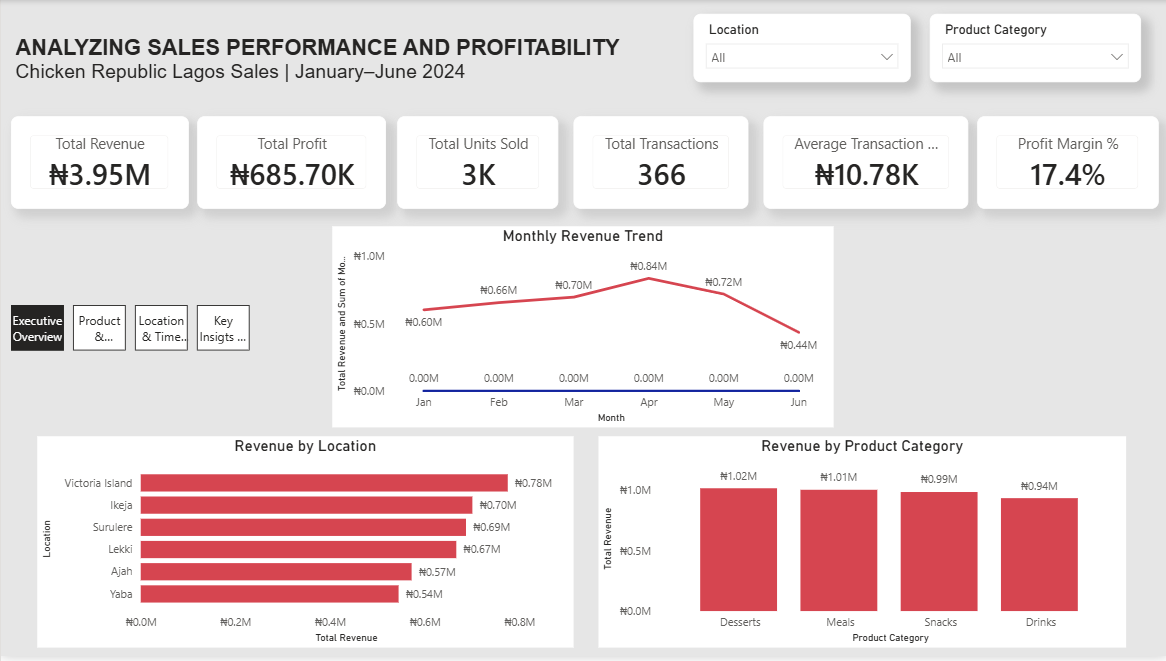

This screenshot's page, from the dashboard's own definition file:
{"tool":"powerbi","page":{"name":"Executive Overview","canvas":[1280,720],"ordinal":0},"visuals":[{"type":"cardVisual","fields":{"Data":["SalesData.Total Revenue"]},"box":[11,127.6,194.9,101.5],"z":0},{"type":"cardVisual","fields":{"Data":["SalesData.Total Profit"]},"box":[215.4,127.6,207.2,101.5],"z":1000},{"type":"cardVisual","fields":{"Data":["SalesData.Total Units Sold"]},"box":[435,127.6,177,101.5],"z":2000},{"type":"cardVisual","fields":{"Data":["SalesData.Total Transactions"]},"box":[628.5,127.6,192.1,101.5],"z":3000},{"type":"cardVisual","fields":{"Data":["SalesData.Average Transaction Value"]},"box":[837.1,127.6,225,101.5],"z":4000},{"type":"cardVisual","fields":{"Data":["SalesData.Profit Margin %"]},"box":[1071.7,127.6,199,101.5],"z":5000},{"type":"lineChart","title":"Monthly Revenue Trend","fields":{"Category":["SalesData.Month"],"Y":["SalesData.Total Revenue","Sum(SalesData.Month Number)"]},"box":[363.6,248.4,550.3,220.9],"z":6000},{"type":"clusteredColumnChart","title":"Revenue by Product Category","fields":{"Category":["SalesData.Product Category"],"Y":["SalesData.Total Revenue"]},"box":[655.9,478.9,579.1,231.9],"z":7000},{"type":"barChart","title":"Revenue by Location","fields":{"Category":["SalesData.Location"],"Y":["SalesData.Total Revenue"]},"box":[39.8,478.9,588.7,231.9],"z":8000},{"type":"textbox","box":[11,34.3,690.2,68.6],"z":9000},{"type":"slicer","fields":{"Values":["SalesData.Location"]},"box":[760.2,15.1,238.8,75.5],"z":10000},{"type":"slicer","fields":{"Values":["SalesData.Product Category"]},"box":[1019.6,15.1,231.9,75.5],"z":11000},{"type":"pageNavigator","box":[11,334.8,262.1,50.8],"z":12000}]}

Visuals, with their boxes in screenshot pixels (x1, y1, x2, y2), scaled from the page's 1280x720 canvas onto the 1166x661 screenshot:
cardVisual - SalesData.Total Revenue: locate(10, 117, 188, 210)
cardVisual - SalesData.Total Profit: locate(196, 117, 385, 210)
cardVisual - SalesData.Total Units Sold: locate(396, 117, 557, 210)
cardVisual - SalesData.Total Transactions: locate(573, 117, 748, 210)
cardVisual - SalesData.Average Transaction Value: locate(763, 117, 968, 210)
cardVisual - SalesData.Profit Margin %: locate(976, 117, 1158, 210)
"Monthly Revenue Trend" lineChart: locate(331, 228, 833, 431)
"Revenue by Product Category" clusteredColumnChart: locate(597, 440, 1125, 653)
"Revenue by Location" barChart: locate(36, 440, 573, 653)
textbox: locate(10, 31, 639, 94)
slicer - SalesData.Location: locate(692, 14, 910, 83)
slicer - SalesData.Product Category: locate(929, 14, 1140, 83)
pageNavigator: locate(10, 307, 249, 354)
